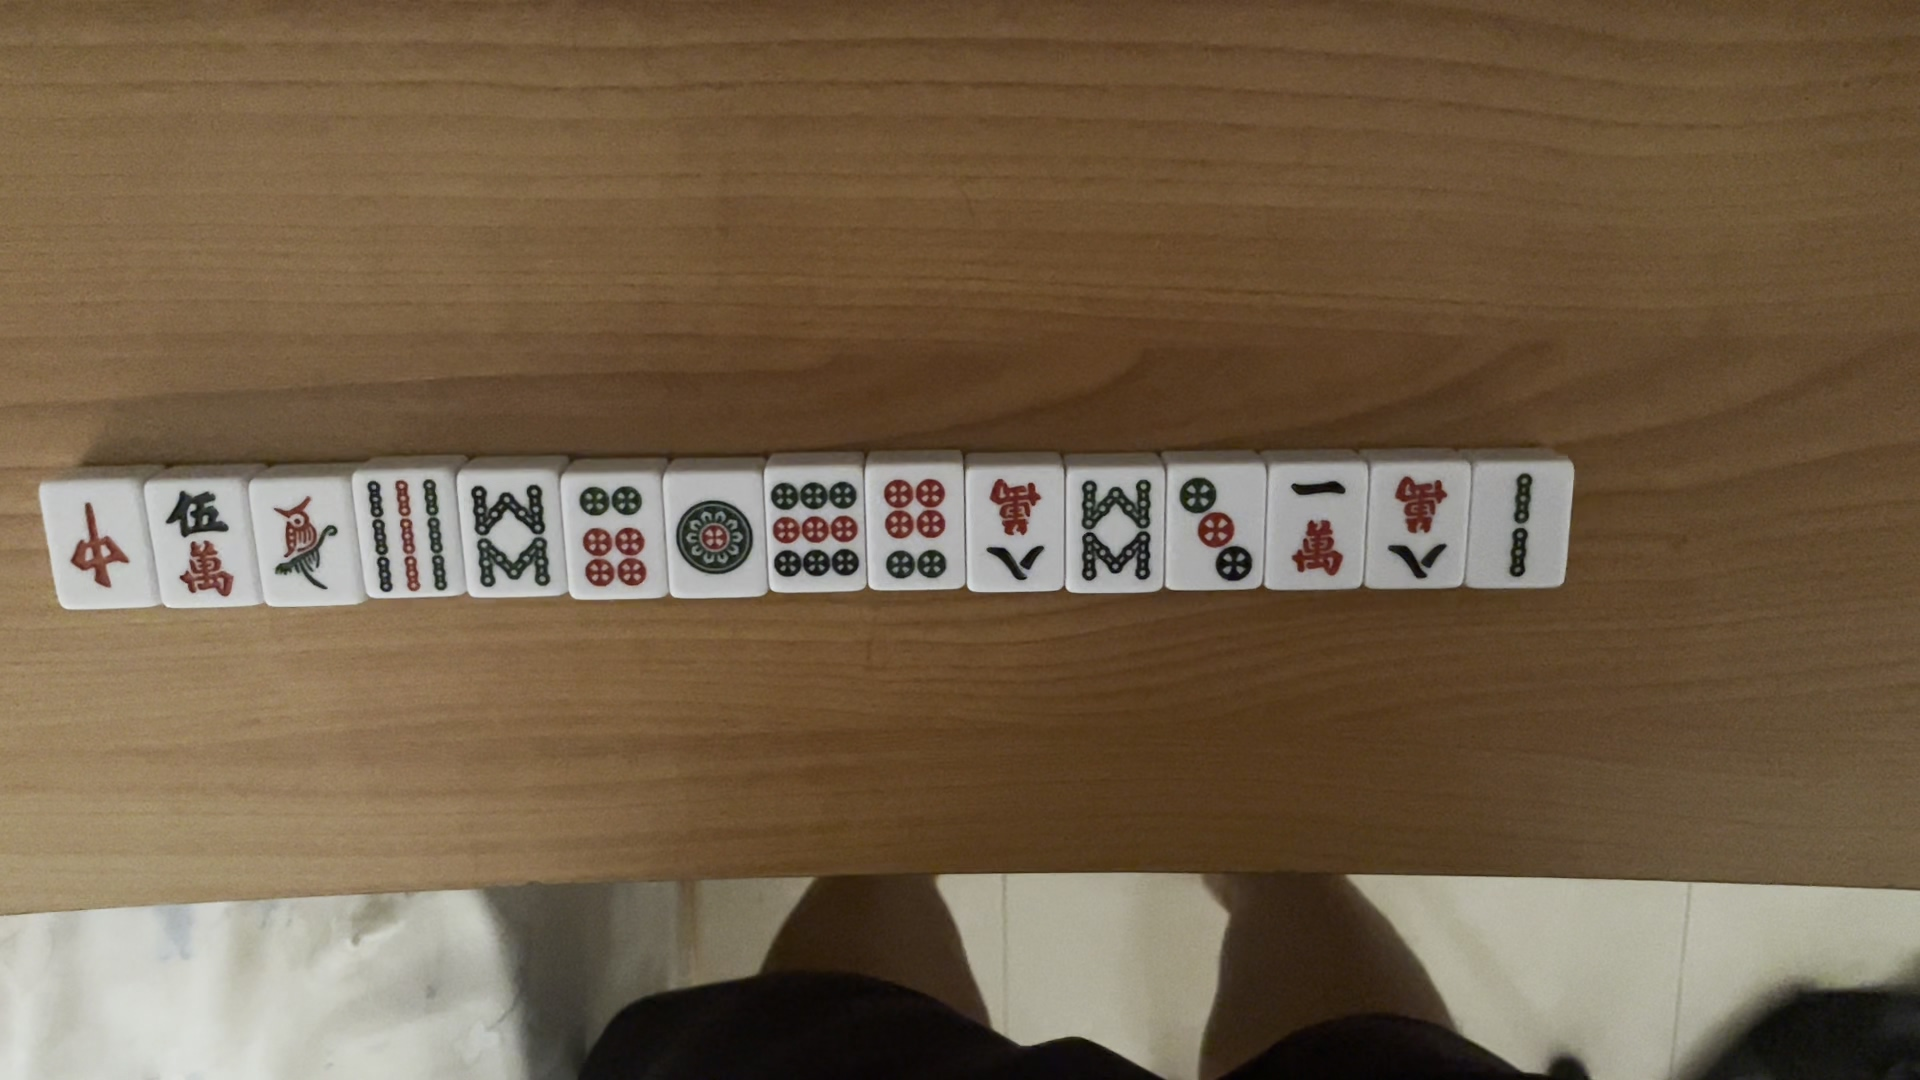b-1: (268, 485, 349, 605)
b-2: (1478, 469, 1555, 583)
b-8: (468, 475, 564, 597), (1062, 469, 1158, 592)
b-9: (363, 473, 451, 599)
c-1: (1276, 469, 1360, 580)
c-5: (158, 479, 239, 607)
c-8: (971, 475, 1055, 585), (1375, 473, 1460, 584)
d-1: (673, 495, 758, 579)
d-3: (1171, 475, 1255, 579)
d-6: (576, 479, 654, 596), (874, 467, 952, 584)
d-9: (771, 472, 864, 582)
honors-red: (51, 489, 138, 599)
